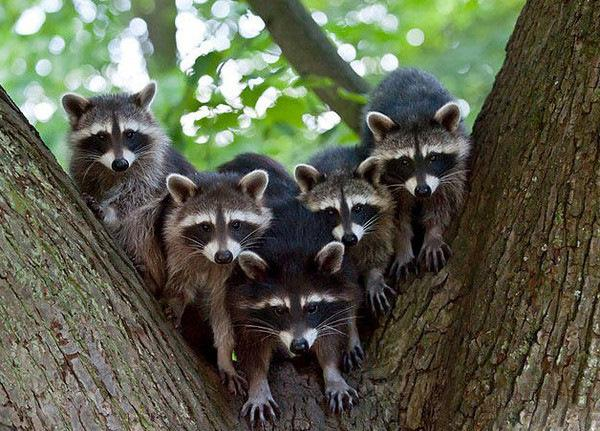raccoon: (156, 170, 269, 395), (358, 65, 472, 275), (232, 239, 354, 431), (60, 80, 168, 291), (291, 160, 398, 308)
